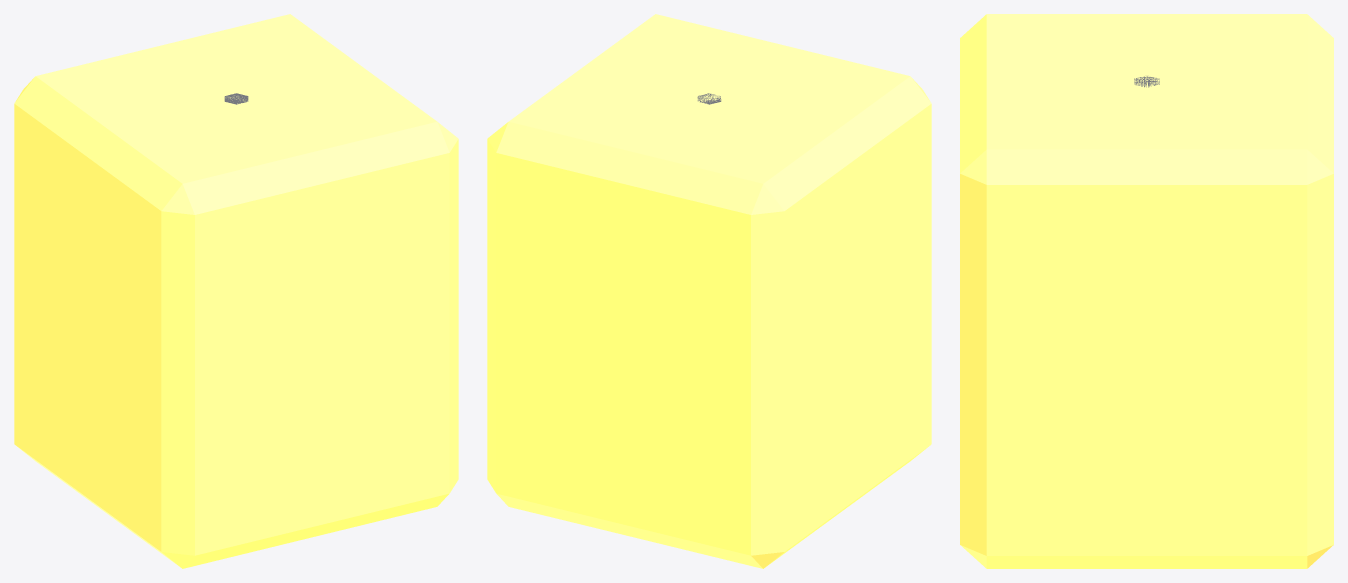
The model's file is lamp_post.glb.
3 views of the same model, side by side, from view 1: azimuth 30°, elevation 25°; view 2: azimuth 150°, elevation 25°; view 3: azimuth 270°, elevation 25° (orthographic). The views are drawn at different scales.
Visible parts, largest first — view 1: lamp_post_1; view 2: lamp_post_1; view 3: lamp_post_1.
Part boxes in pixels (x1=…): lamp_post_1: x1=14, y1=14, x2=458, y2=568; lamp_post_1: x1=487, y1=14, x2=931, y2=568; lamp_post_1: x1=960, y1=14, x2=1333, y2=568.
Bounding box in the file's own units: 1.62 × 2 × 1.62.
